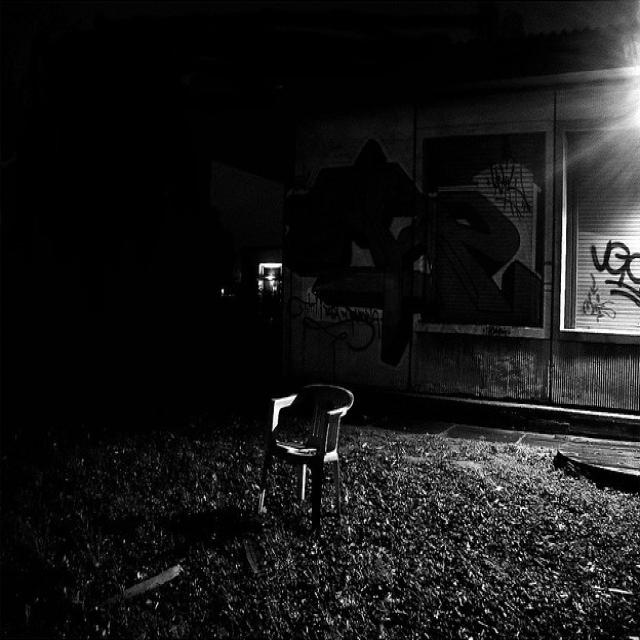chair: (256, 348, 374, 548)
